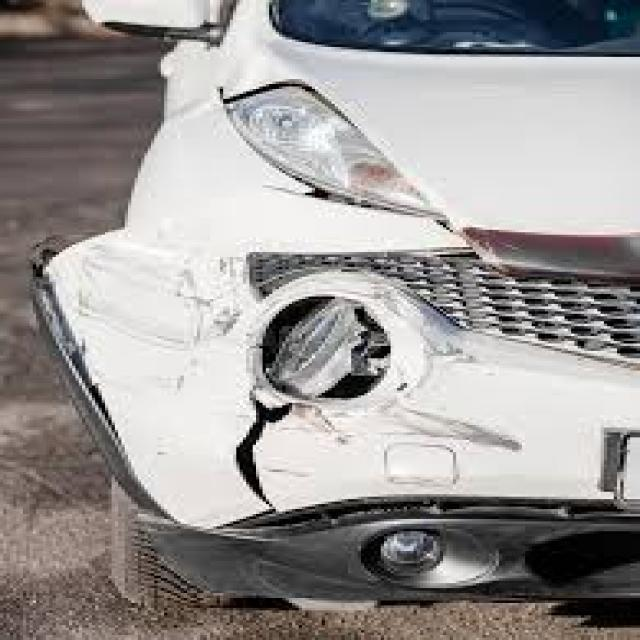damaged-front-bumper: (39, 242, 640, 581)
